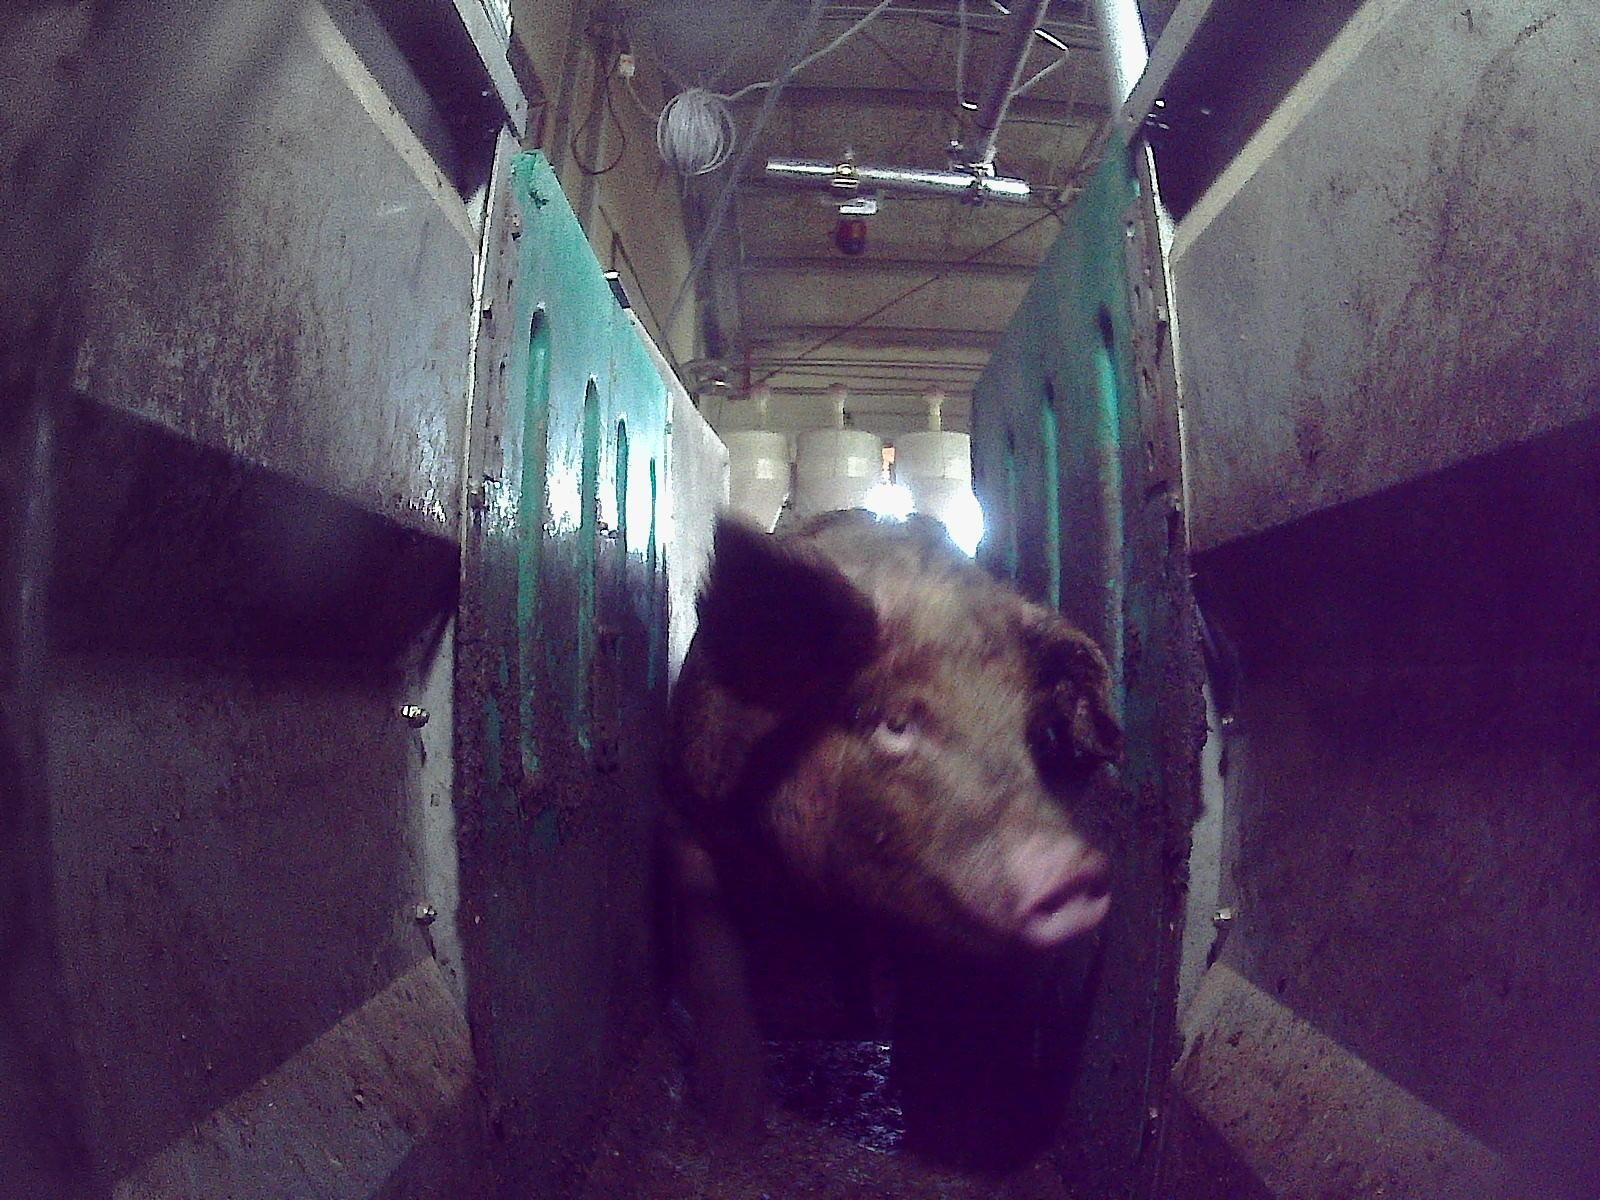Face: (769, 583, 1112, 957)
